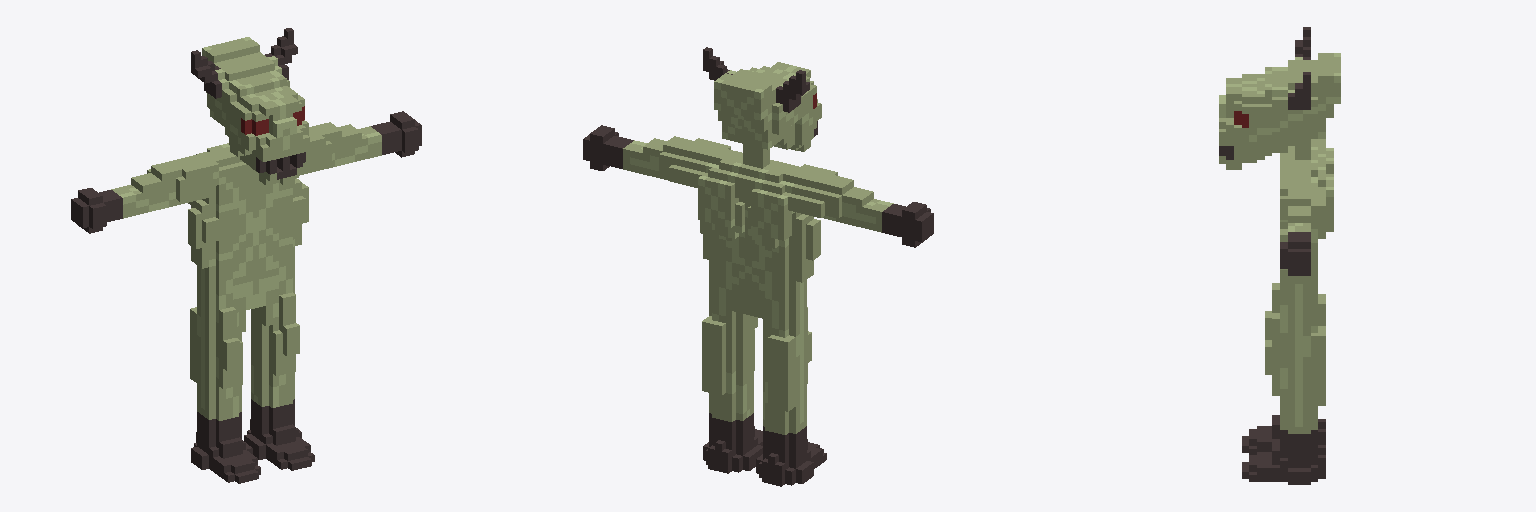
The picture shows the model from 3 angles: view 1: azimuth 30°, elevation 25°; view 2: azimuth 150°, elevation 25°; view 3: azimuth 270°, elevation 25°; orthographic projection.
Visible parts, largest first — view 1: object 1; view 2: object 1; view 3: object 1.
Part boxes in pixels (bbox=[...]): object 1: bbox=[71, 28, 421, 483]; object 1: bbox=[583, 47, 933, 486]; object 1: bbox=[1219, 27, 1340, 484].
Size of the model in its own units: 5.1 by 5.9 by 1.6.
Materials: 1 (1 with a texture image).